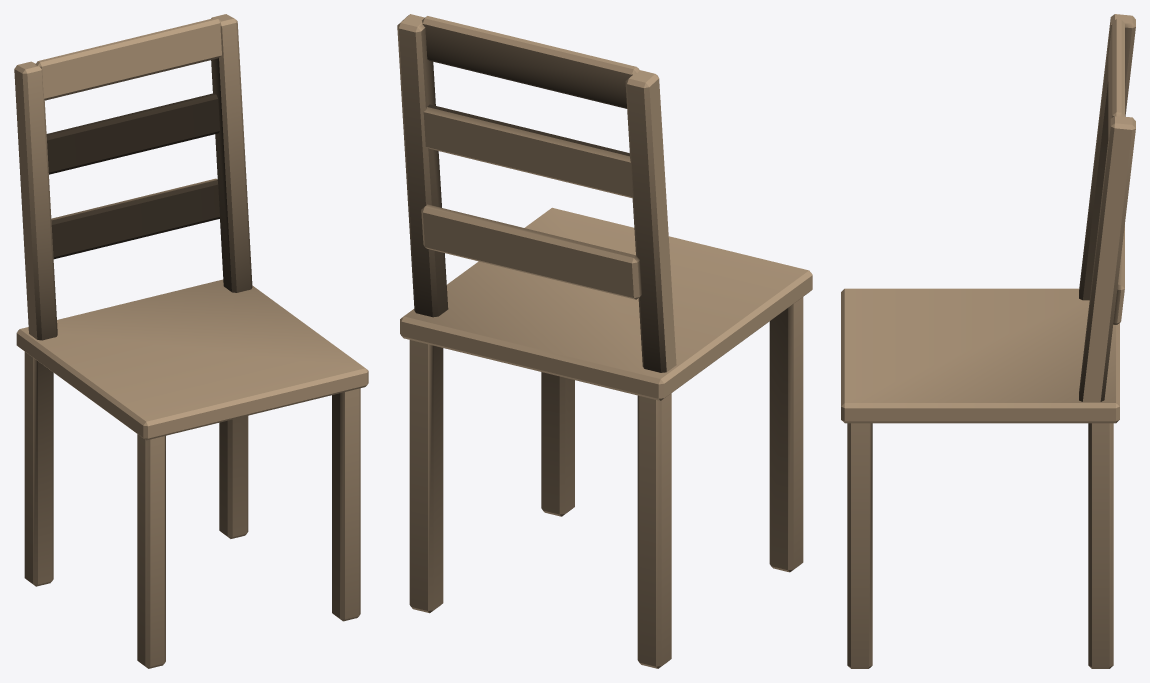
The model's file is chair.glb.
3 views of the same model, side by side, from view 1: azimuth 30°, elevation 25°; view 2: azimuth 150°, elevation 25°; view 3: azimuth 270°, elevation 25° (orthographic). The views are drawn at different scales.
Parts seen in each view (by area): view 1: chair; view 2: chair; view 3: chair.
Boxes of the visible parts, box(x1,y1,x2,y2) form: chair: box(14, 14, 368, 668); chair: box(397, 14, 812, 668); chair: box(841, 14, 1135, 668).
Bounding box in the file's own units: 0.44 × 0.9552 × 0.4654.
